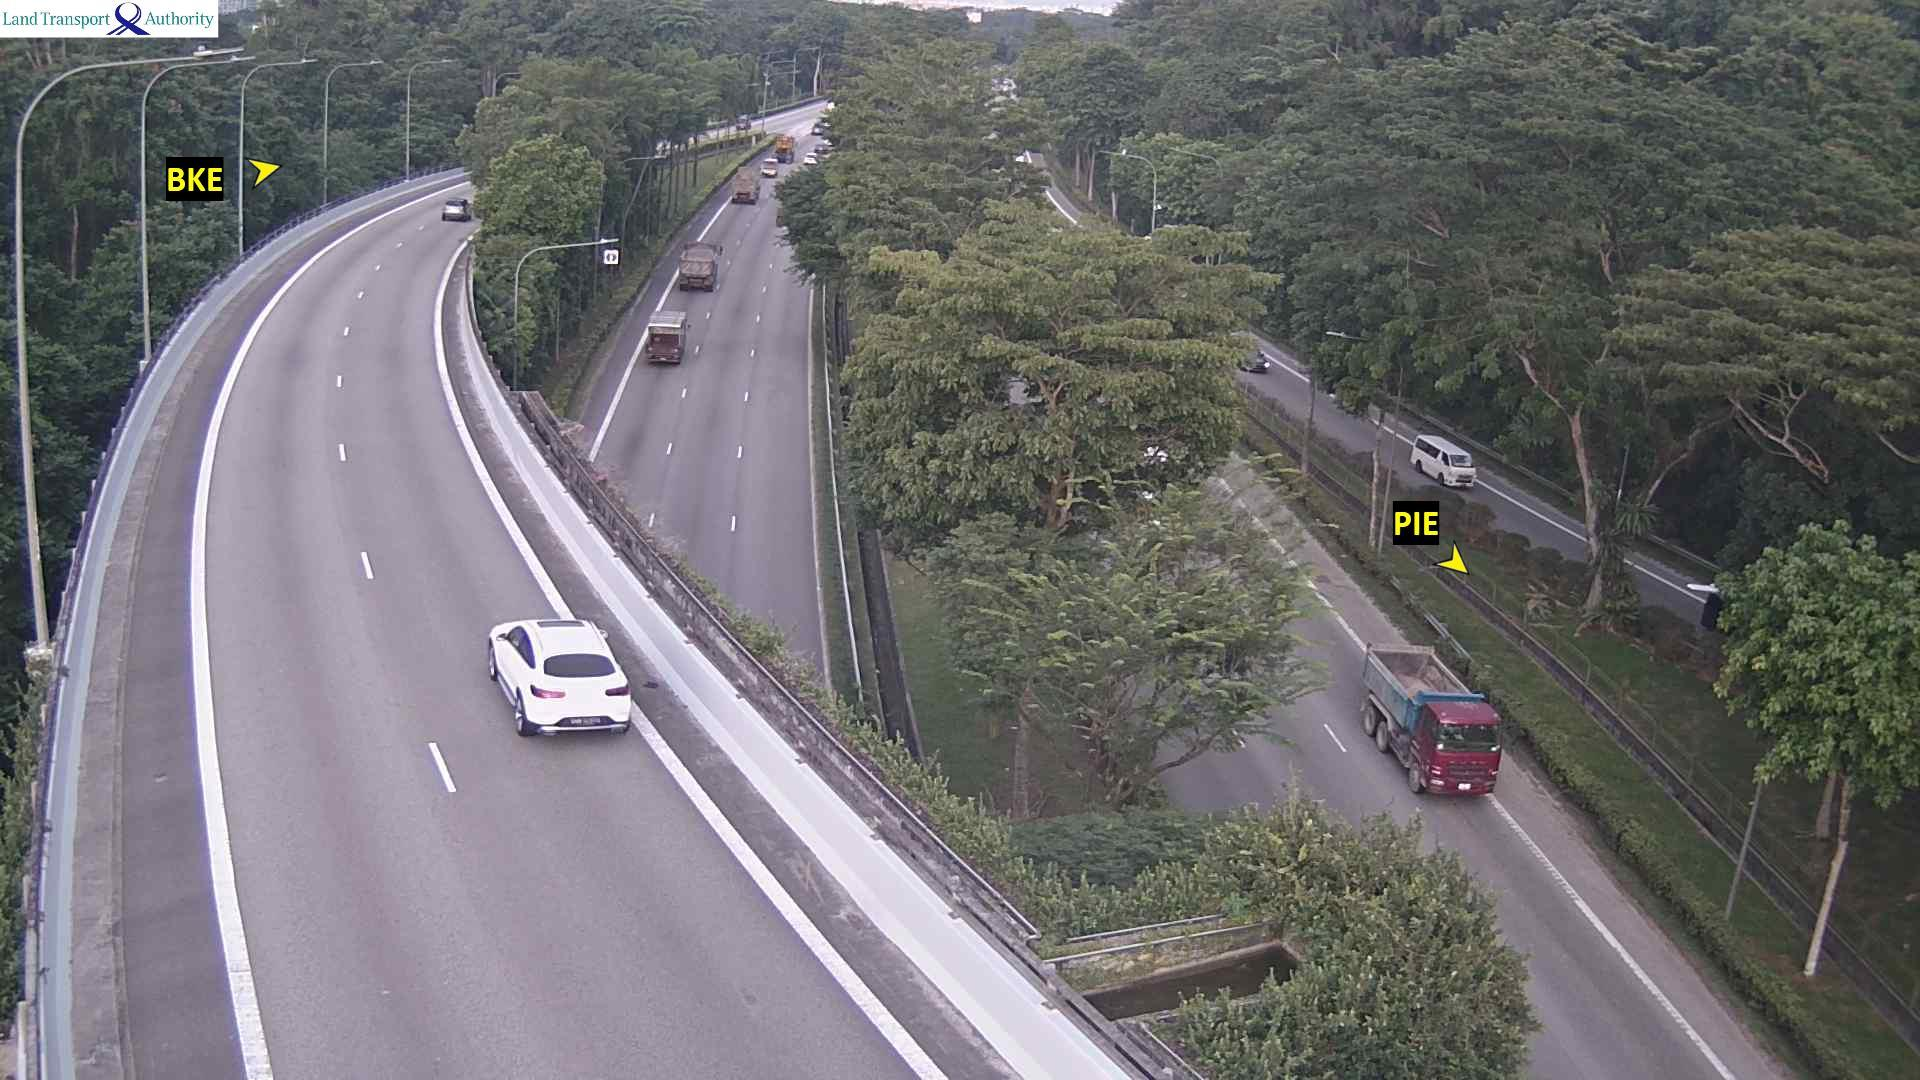incoming: (1407, 690, 1506, 798), (1443, 449, 1481, 490)
